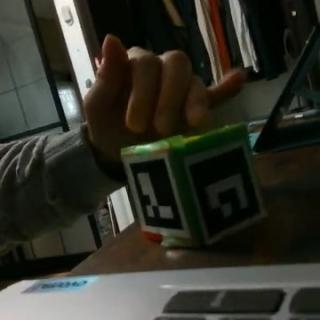armor: (179, 138, 265, 246), (125, 152, 190, 242)
robot: (123, 120, 270, 250)
